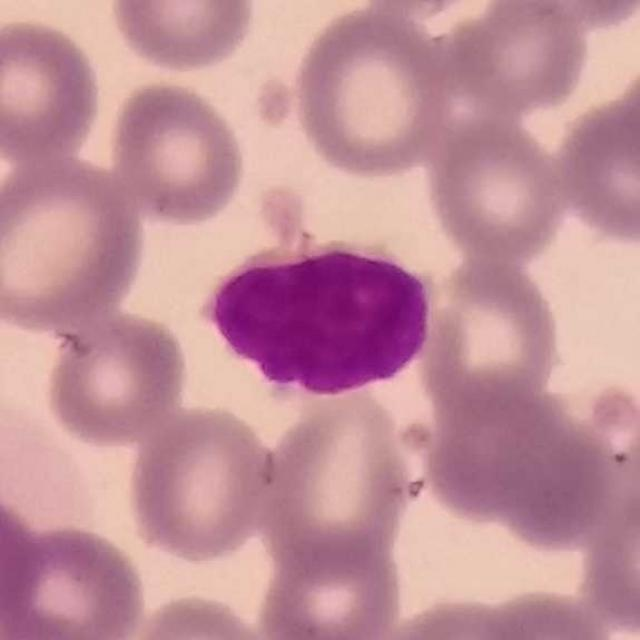Lymphocyte: (212, 200, 440, 399)
Platelets: (583, 378, 640, 439), (254, 75, 297, 134)
RBC: (415, 375, 618, 551), (252, 384, 418, 579), (288, 4, 454, 182), (0, 153, 150, 332), (121, 402, 283, 566), (415, 253, 567, 425), (103, 76, 250, 230), (422, 113, 570, 264), (39, 307, 191, 450), (1, 518, 150, 640), (445, 0, 596, 118), (253, 533, 406, 640), (0, 12, 107, 163), (550, 76, 640, 248), (0, 395, 101, 546), (104, 0, 260, 77), (575, 475, 639, 639), (458, 583, 626, 640), (368, 589, 554, 640), (113, 587, 282, 640), (0, 486, 47, 631), (494, 0, 640, 35), (359, 0, 491, 20)
